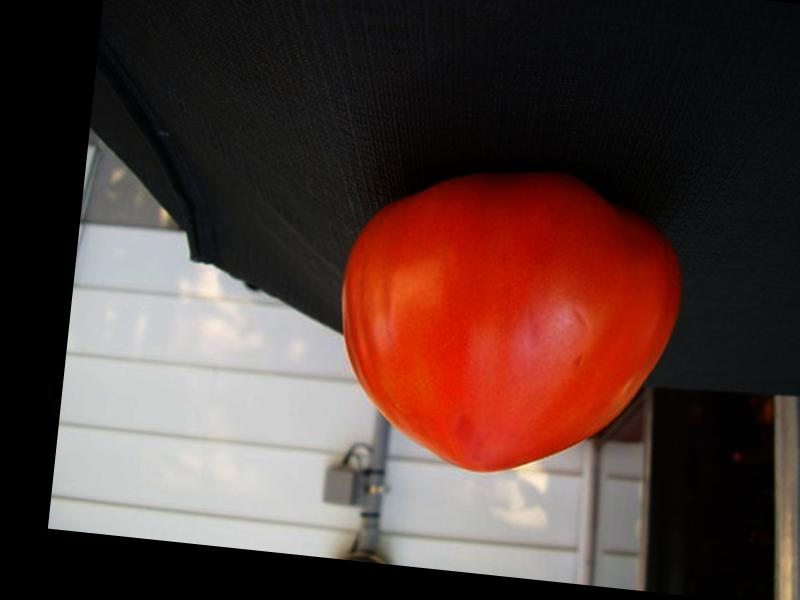Tomato: (325, 153, 692, 492)
